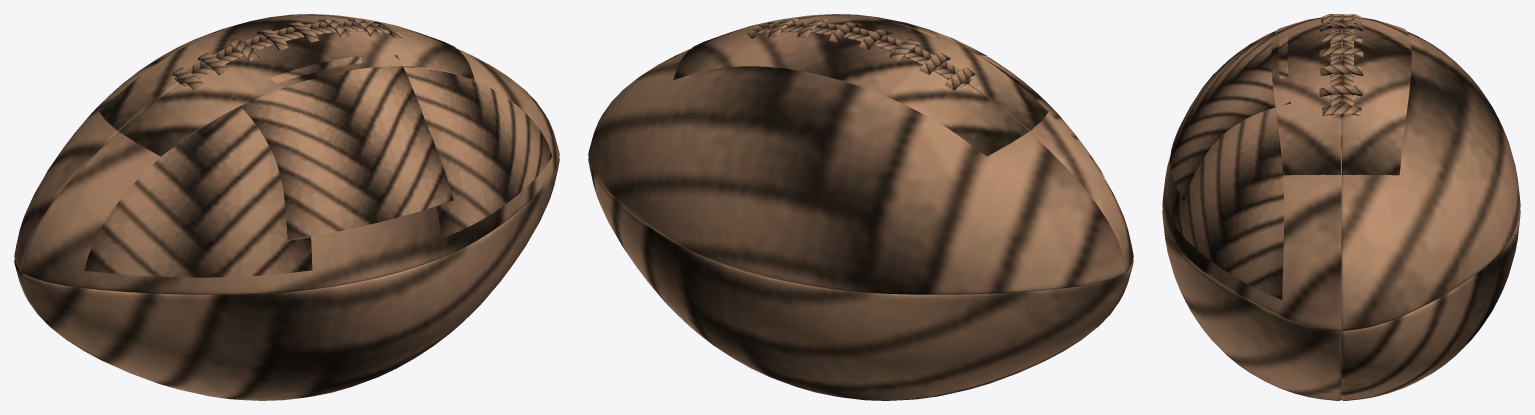
The model's file is Football_06_SM.glb.
The picture shows the model from 3 angles, left to right: view 1: azimuth 30°, elevation 25°; view 2: azimuth 150°, elevation 25°; view 3: azimuth 270°, elevation 25°; orthographic projection. The views are drawn at different scales.
Visible parts, largest first — view 1: Football_06_SM_0, Football_06_SM_1, Football_06_SM_3, Football_06_SM_4, Football_06_SM_2; view 2: Football_06_SM_0, Football_06_SM_2, Football_06_SM_3; view 3: Football_06_SM_0, Football_06_SM_4, Football_06_SM_1, Football_06_SM_2.
Part boxes in pixels (x1,y1,x2,y2): Football_06_SM_0: (14, 14, 559, 400); Football_06_SM_1: (231, 55, 453, 240); Football_06_SM_3: (84, 107, 312, 277); Football_06_SM_4: (403, 67, 552, 238); Football_06_SM_2: (172, 18, 402, 89); Football_06_SM_0: (588, 14, 1133, 400); Football_06_SM_2: (744, 18, 975, 90); Football_06_SM_3: (978, 55, 1104, 176); Football_06_SM_0: (1162, 17, 1520, 400); Football_06_SM_4: (1171, 108, 1284, 299); Football_06_SM_1: (1170, 27, 1290, 200); Football_06_SM_2: (1318, 14, 1363, 117).
Size of the model in its own units: 3.06 by 1.92 by 1.89.
Materials: 5 (5 with a texture image).
